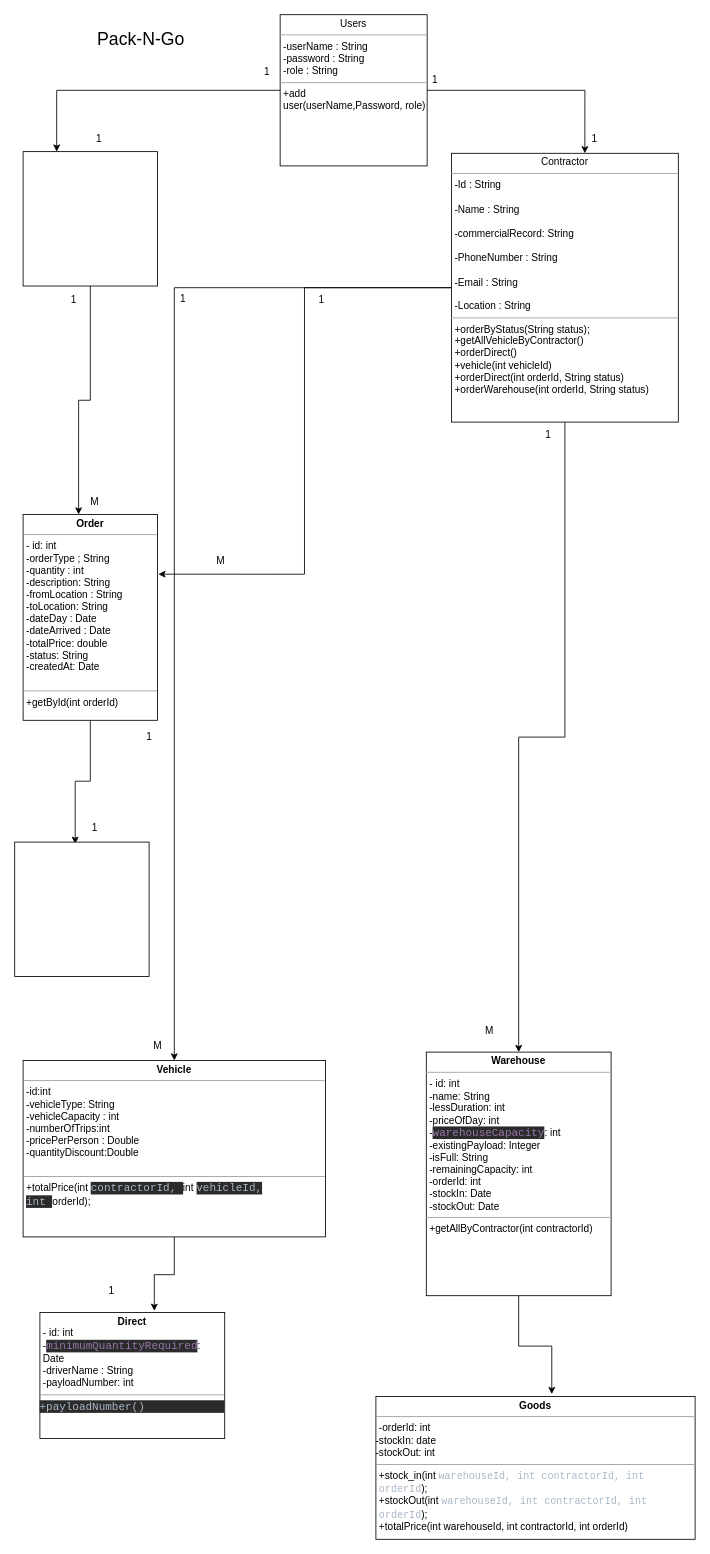
The diagram is 710 pixels wide and 1554 high, and some of its shapes have lost their labels. Here are the shapes that lost their labels. From the top down, the centre of each, then its label:
At point (90, 218): "Customer -Id : int -Name : String -PhoneNumber : String -Email : String".
At point (81, 908): "Review -Id : int -review : String -Star: int +getByOrder(int id);".
